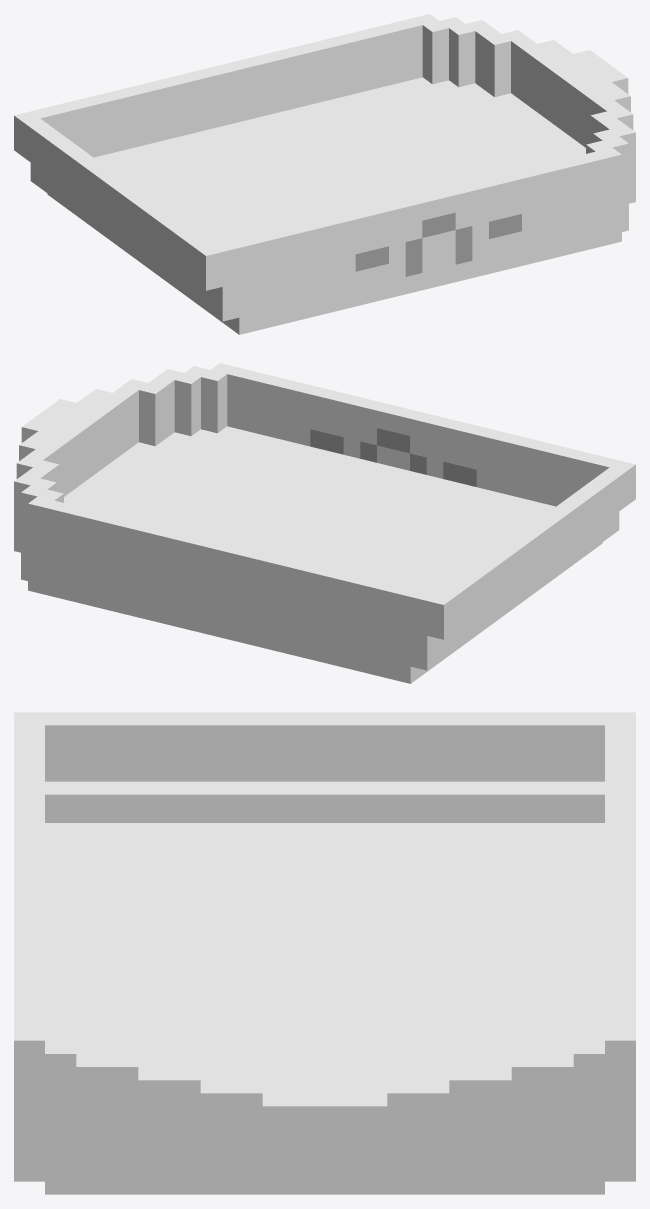
3 views of the same model, one above another, from view 1: azimuth 30°, elevation 25°; view 2: azimuth 150°, elevation 25°; view 3: azimuth 270°, elevation 25° (orthographic). The views are drawn at different scales.
Parts seen in each view (by area): view 1: 35; view 2: 35; view 3: 35.
Boxes of the visible parts, box(x1,y1,x2,y2) form: 35: box(14, 14, 635, 334); 35: box(14, 363, 635, 683); 35: box(14, 712, 635, 1194).
Size of the model in its own units: 300 by 50 by 200.
1 material, 1 textured.
